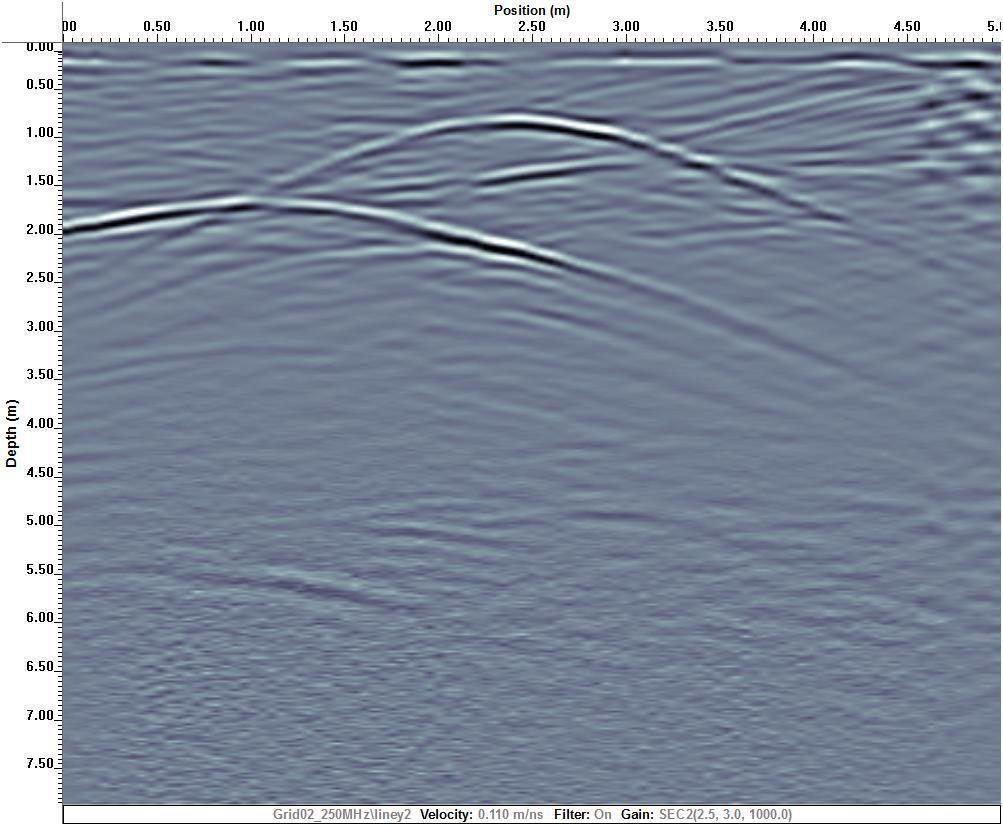hyperbola: (60, 192, 786, 325), (184, 106, 854, 231)
